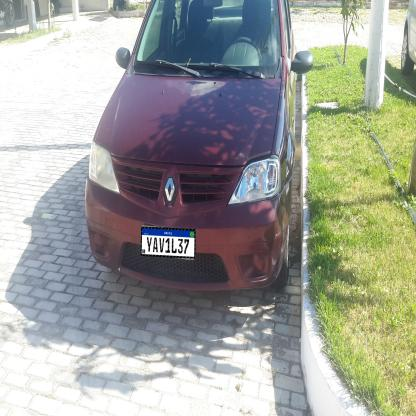PlacaM: (140, 226, 196, 258)
